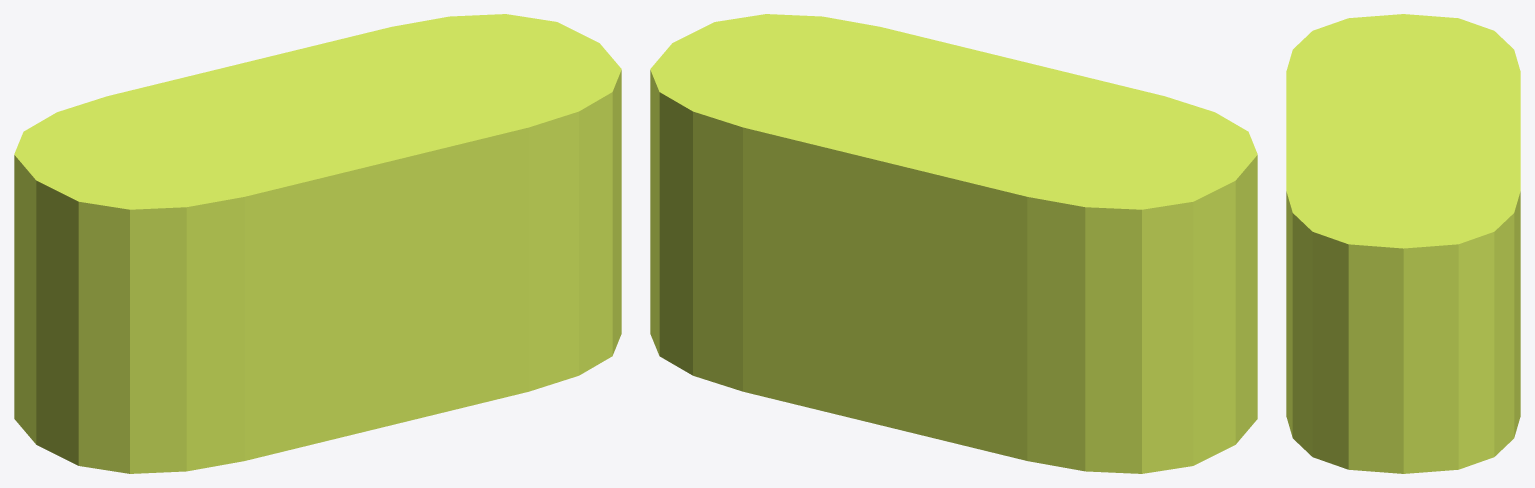
The model's file is original-23.obj.
The picture shows the model from 3 angles, left to right: view 1: azimuth 30°, elevation 25°; view 2: azimuth 150°, elevation 25°; view 3: azimuth 270°, elevation 25°; orthographic projection. The views are drawn at different scales.
Visible parts, largest first — view 1: mesh24/mesh24-geometry#mesh24-geometry; view 2: mesh24/mesh24-geometry#mesh24-geometry; view 3: mesh24/mesh24-geometry#mesh24-geometry.
Part boxes in pixels (x1,y1,x2,y2): mesh24/mesh24-geometry#mesh24-geometry: (14, 14, 621, 473); mesh24/mesh24-geometry#mesh24-geometry: (650, 14, 1257, 473); mesh24/mesh24-geometry#mesh24-geometry: (1286, 14, 1520, 473).
Size of the model in its own units: 0.00464 by 0.00208 by 0.00196.
